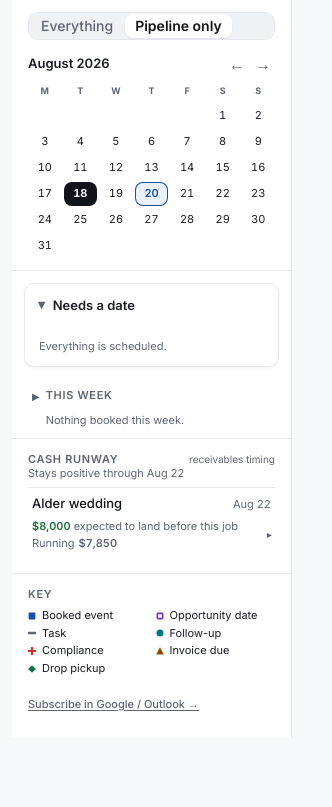
CalendarLeftRail › offers an ICS subscribe entry point that reveals the feed URL
Check: the text "calendar sync" is not shown
Click the button "Subscribe in Google / Outlook →".
click(152, 704)  # box [28, 682, 275, 726]
(page scrolled)
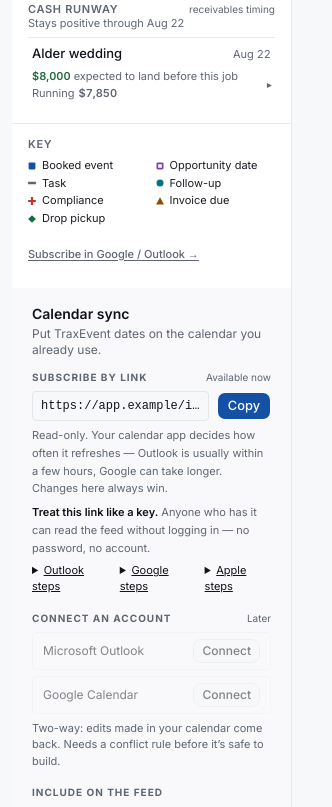
Check: the heading "Calendar sync" is shown, box [32, 305, 129, 322]
Check: the text "https://app.example/ics/acme/tok123" is shown, box [32, 391, 209, 421]
